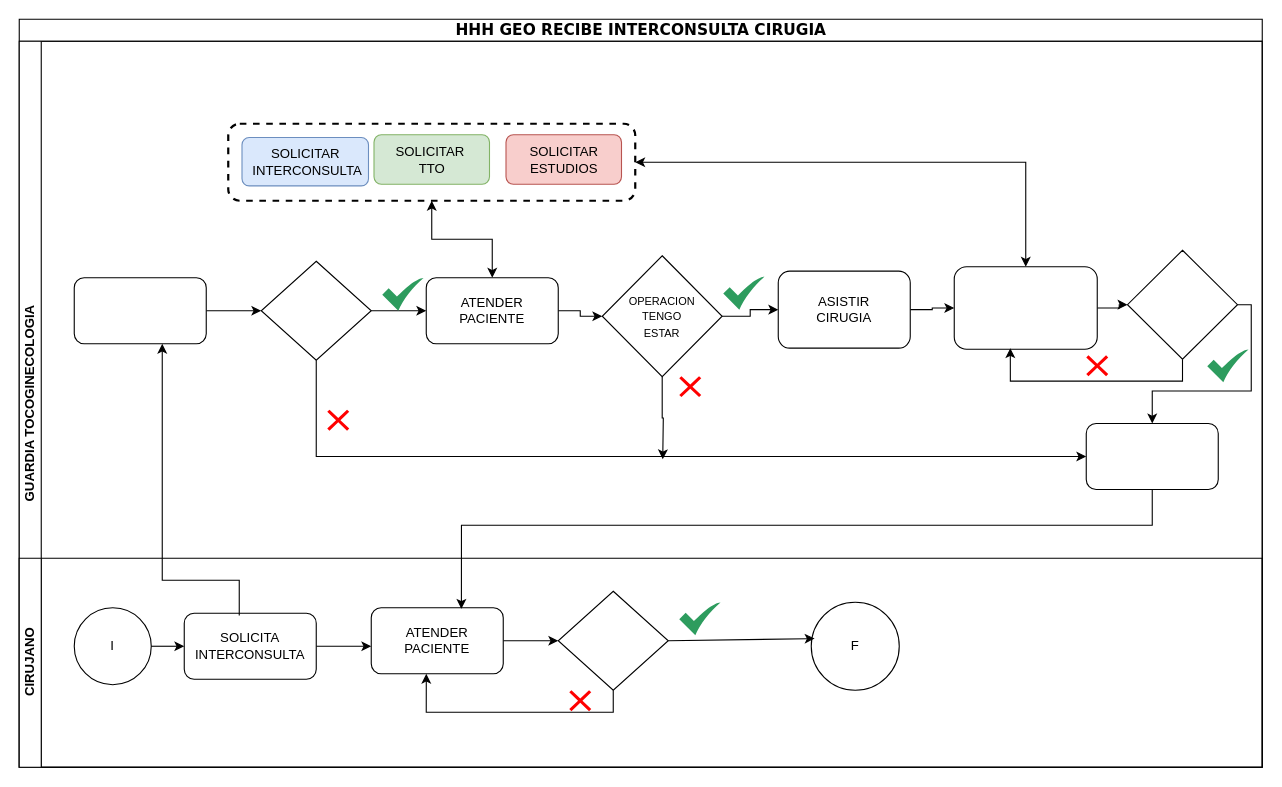
This 1282x787 diagram has some shape labels left out. The box of each missing label's shape, as (x1, y1, x2, y2) in pixels:
AVISAR AL SOLICITANTE: (1085, 422, 1218, 490)
ES TG: (260, 260, 371, 360)
FINALIZA CONSULTA: (557, 590, 668, 690)
FINALIZA SEGUIMIENTO: (1126, 249, 1238, 359)
REALIZAR INTERCONSULTA: (73, 277, 206, 344)
SEGUIMIENTO PACIENTE: (953, 266, 1097, 349)
